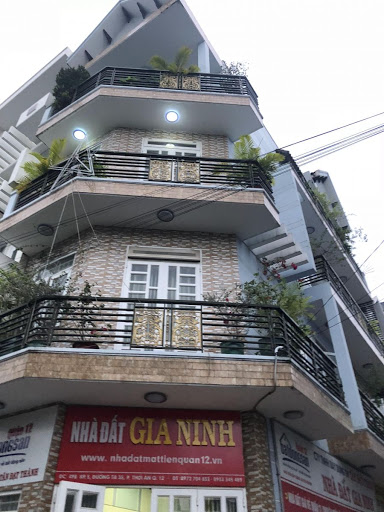banner: (55, 401, 246, 487)
